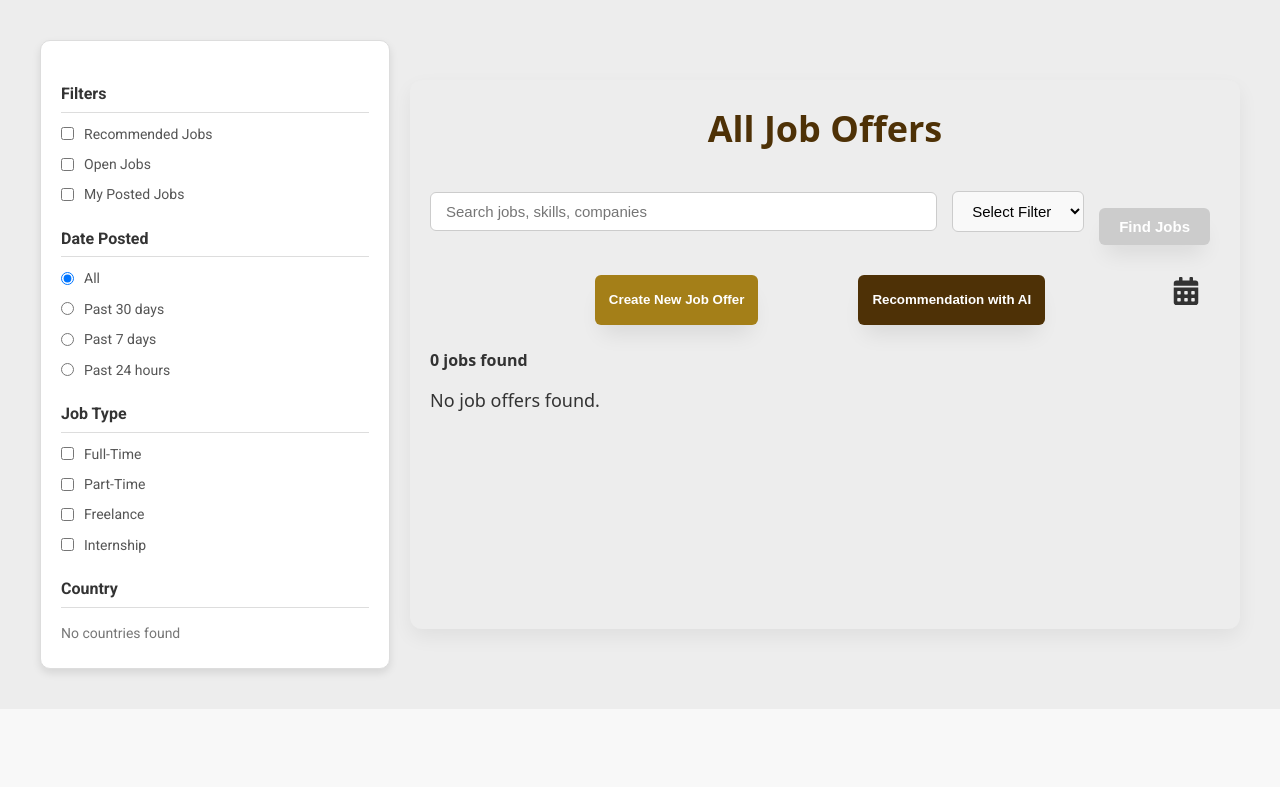
Scenario: AllJobOffers Component › applies date filter correctly for "Past 7 days"
Click the radio button labelled "Past 7 days".
click(68, 339)  # box [61,333,74,346]
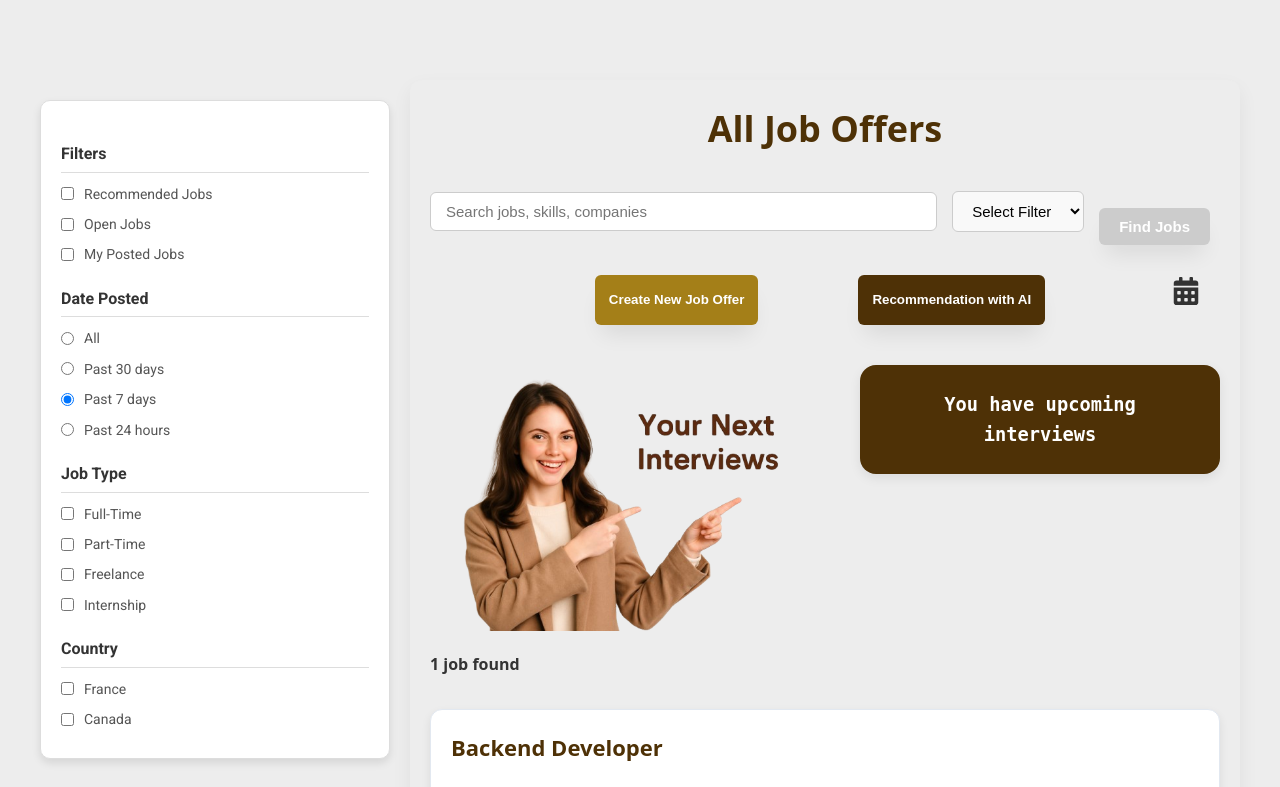
Expected: the heading "Backend Developer" is shown, [451,732,663,762]
